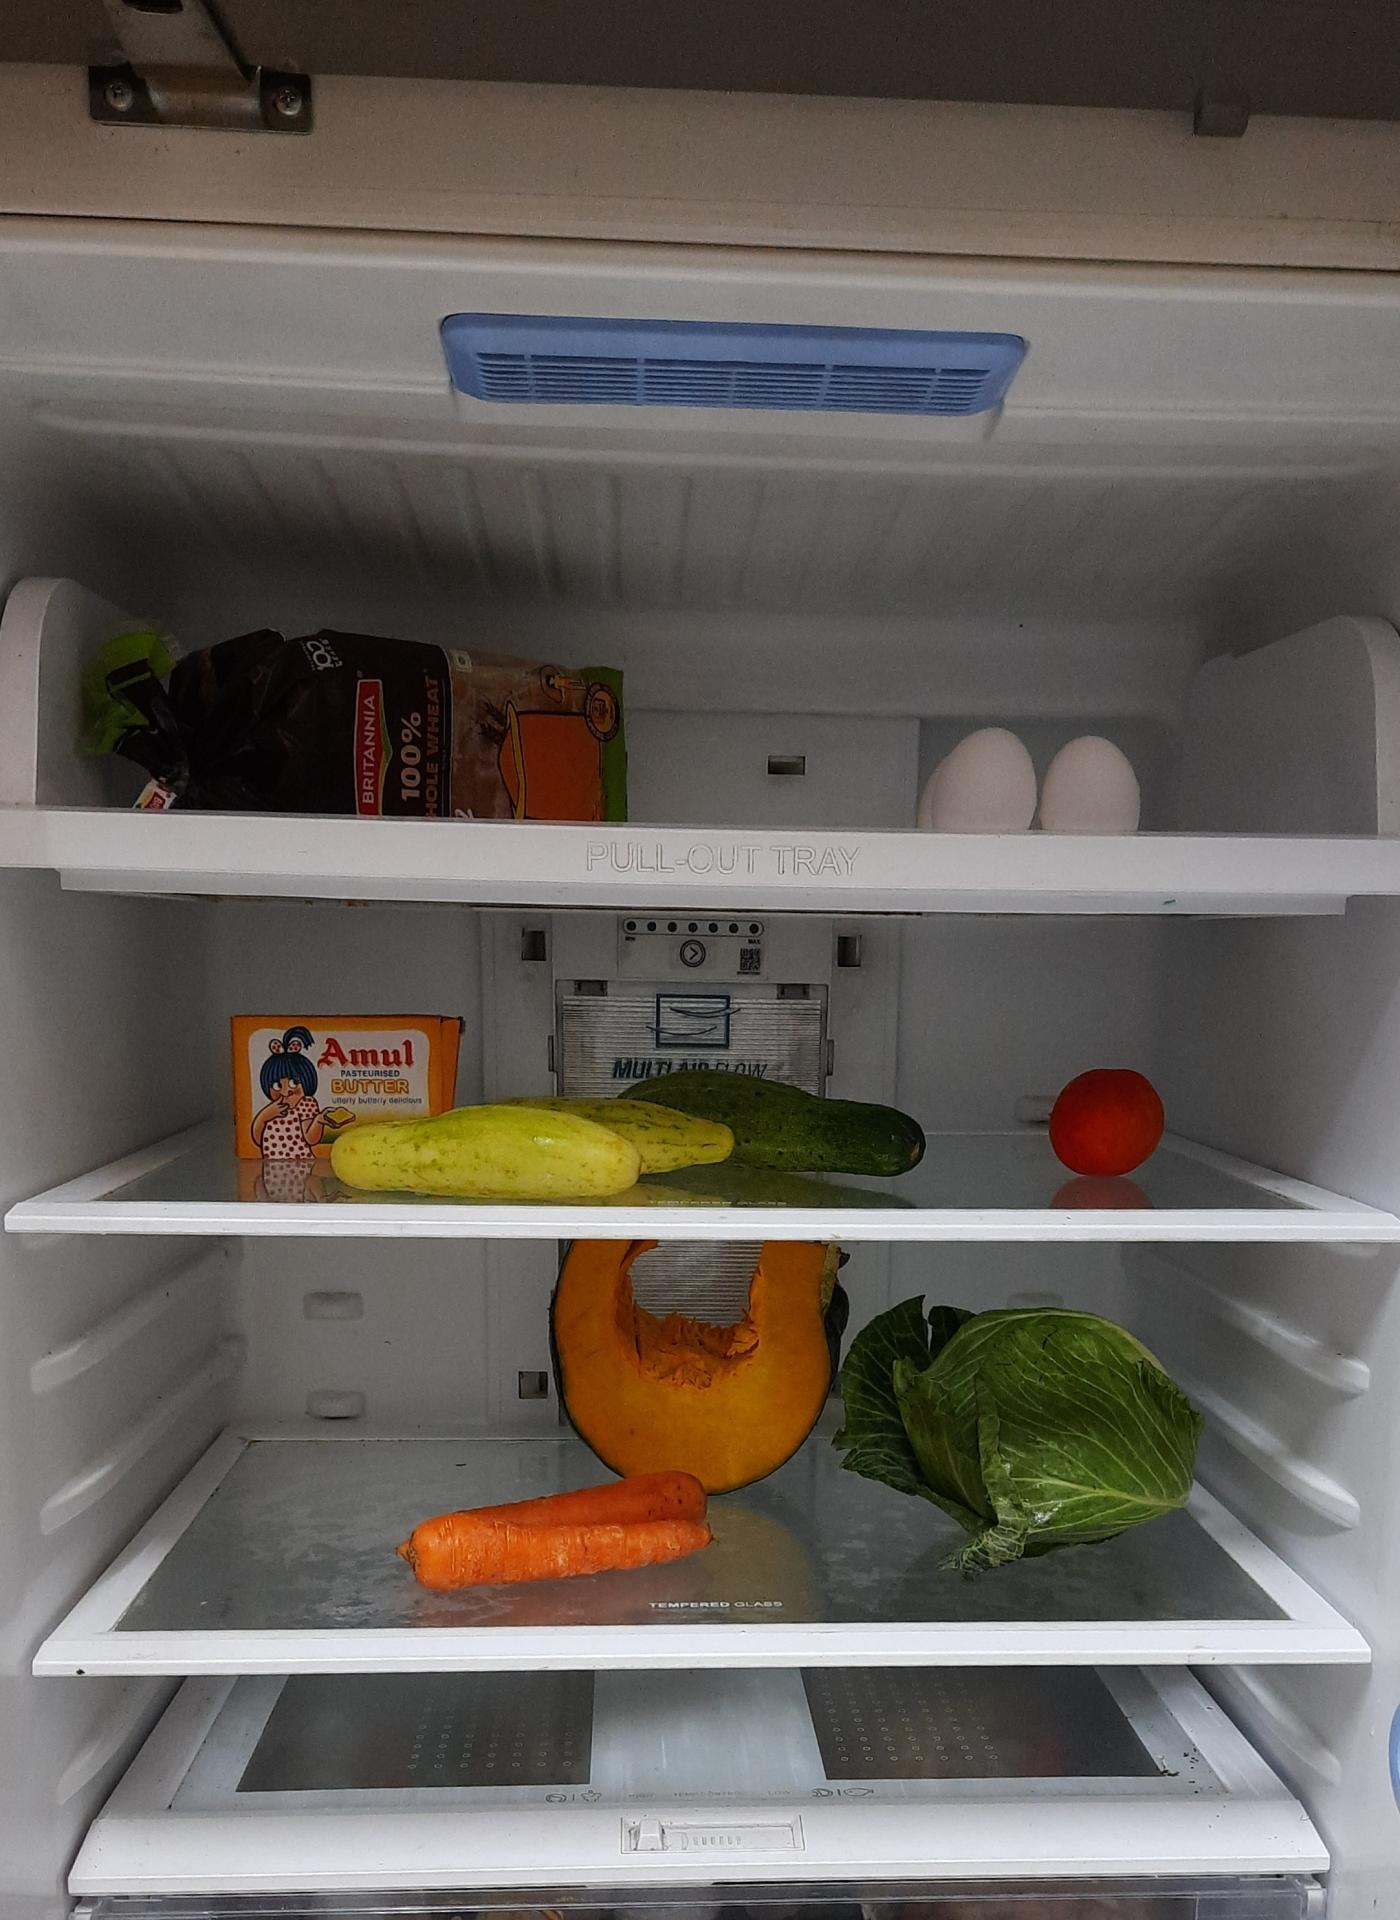bread: (124, 614, 634, 815)
butter: (233, 1017, 467, 1142)
cabbage: (839, 1313, 1206, 1564)
carrots: (397, 1474, 716, 1589)
cucumber: (328, 1064, 933, 1196)
egg: (914, 719, 1147, 829)
pumpkin: (546, 1236, 845, 1485)
tomato: (1048, 1063, 1170, 1175)
